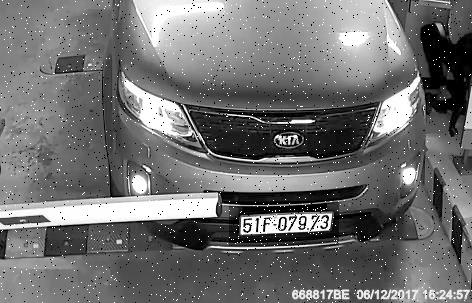License-plate: (231, 202, 342, 247)
